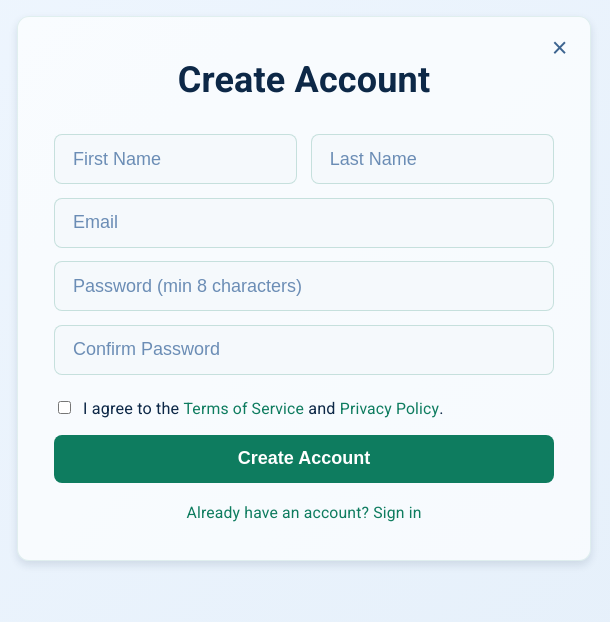
Test case: SignupPanel › shows error when password is too short
This screenshot has width=610, height=622.
Type "John" into the field with placeholder "First Name" at (176,159), box [54,134,297,184]
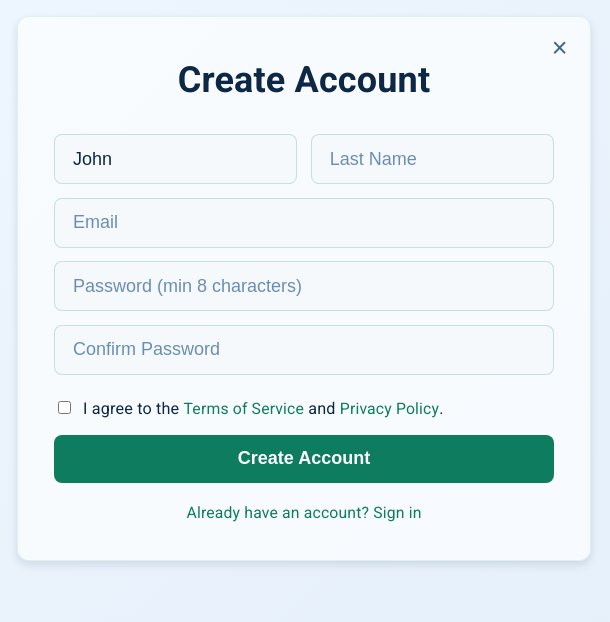
Type "Doe" into the field with placeholder "Last Name" at (432,159), box [311,134,554,184]
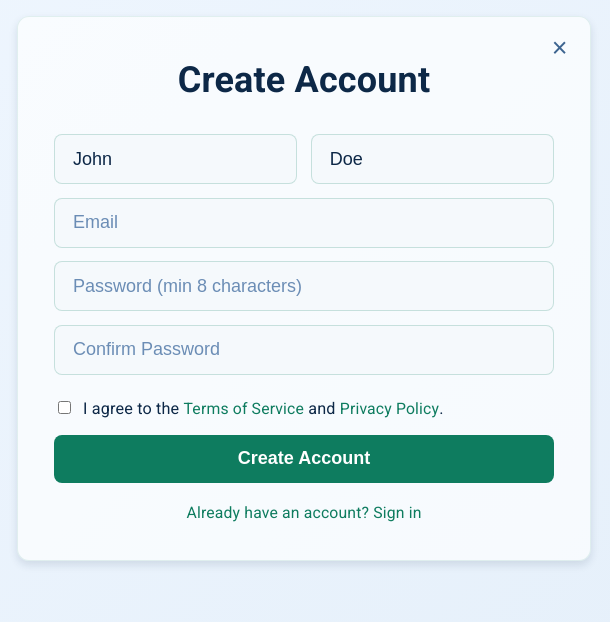
Type "john@test.com" into the field with placeholder "Email" at (304,222), box [54,198,554,248]
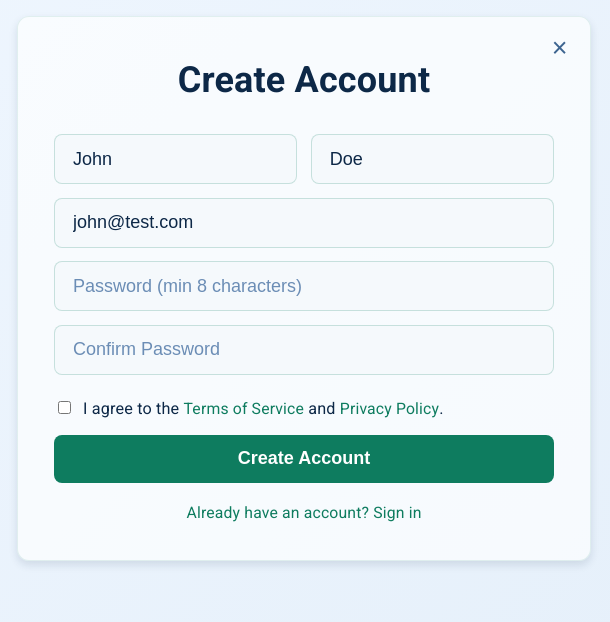
Type "short" into the password field with placeholder "Password (min 8 characters)" at (304,286), box [54,261,554,311]
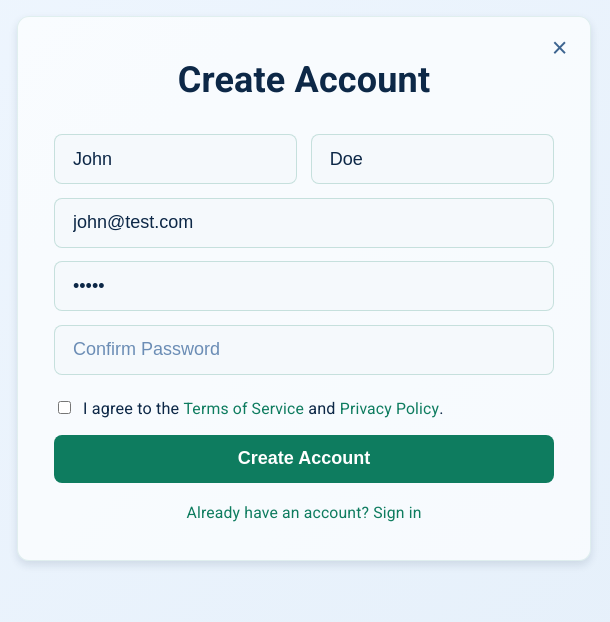
Type "short" into the password field with placeholder "Confirm Password" at (304,350), box [54,324,554,374]
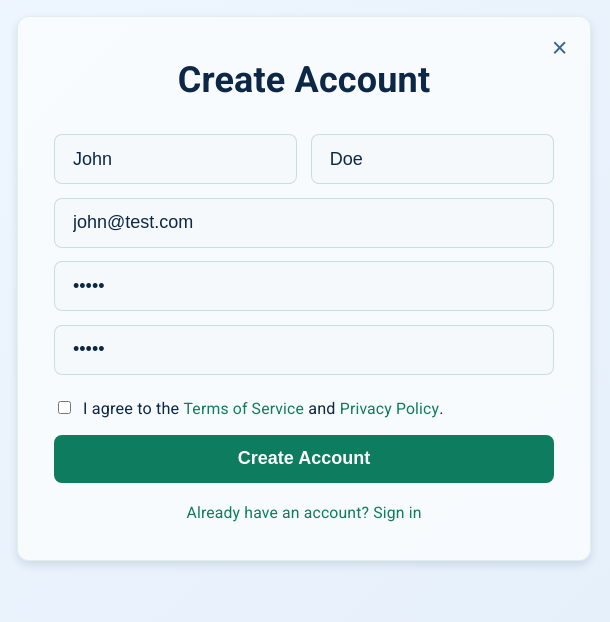
Click the button "Create Account" at (304,459), box [54,435,554,483]
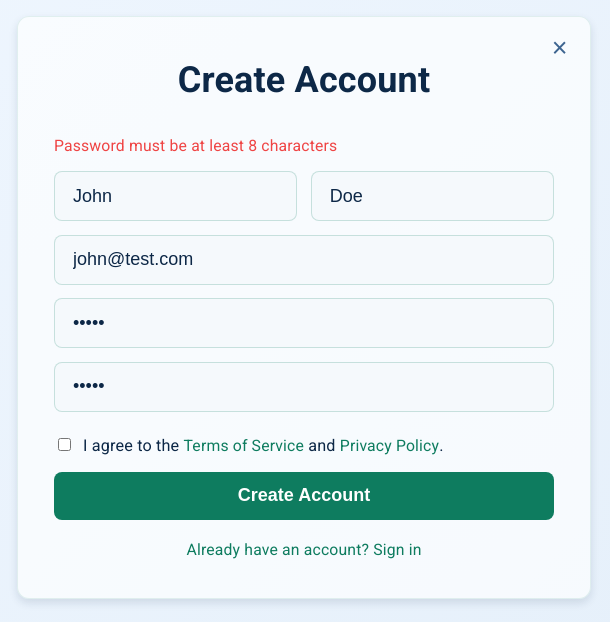
Check: the text "Password must be at least 8 characters" is shown, box [54,136,337,155]
